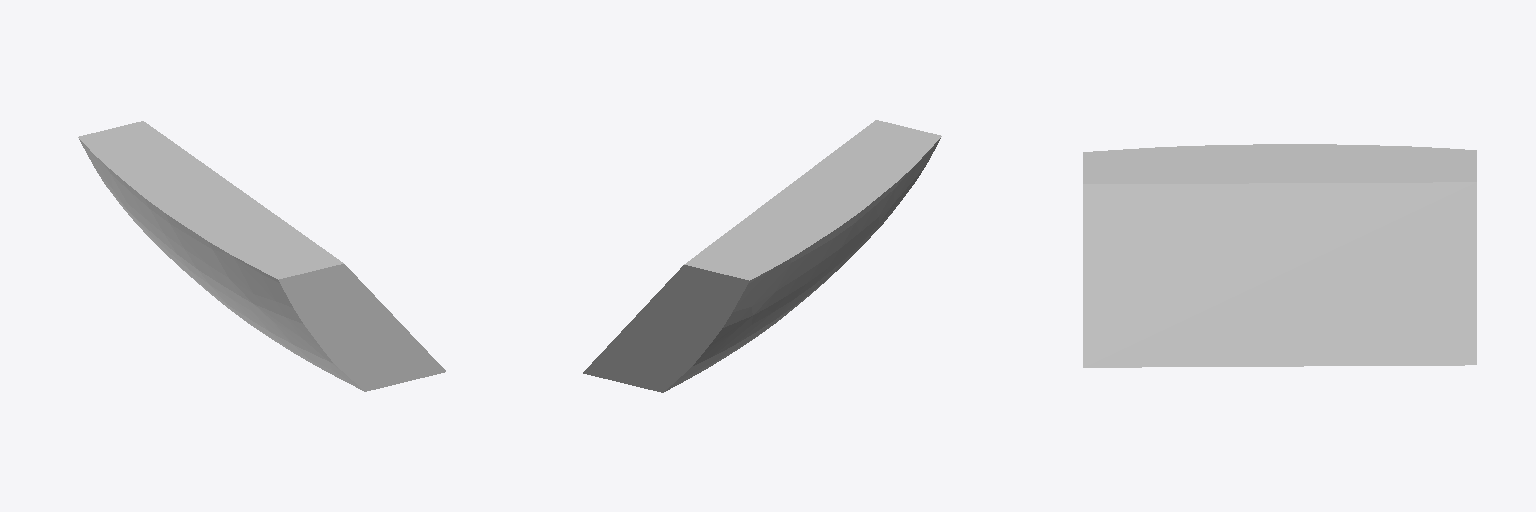
Rendered from pan_collision_39.obj.
3 renders of one model, left to right at view 1: azimuth 30°, elevation 25°; view 2: azimuth 150°, elevation 25°; view 3: azimuth 270°, elevation 25°, orthographic.
Size of the model in its own units: 0.0216 by 0.0149 by 0.0398.